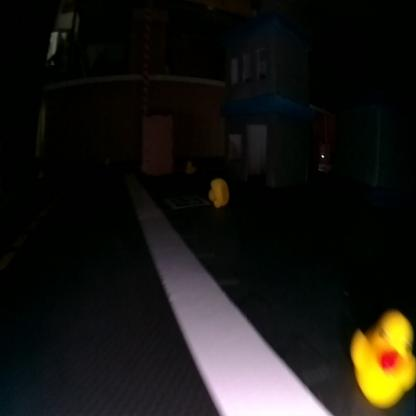Duckie: (351, 310, 412, 399), (209, 177, 227, 205), (185, 160, 191, 172)
QR code: (166, 194, 207, 206)
